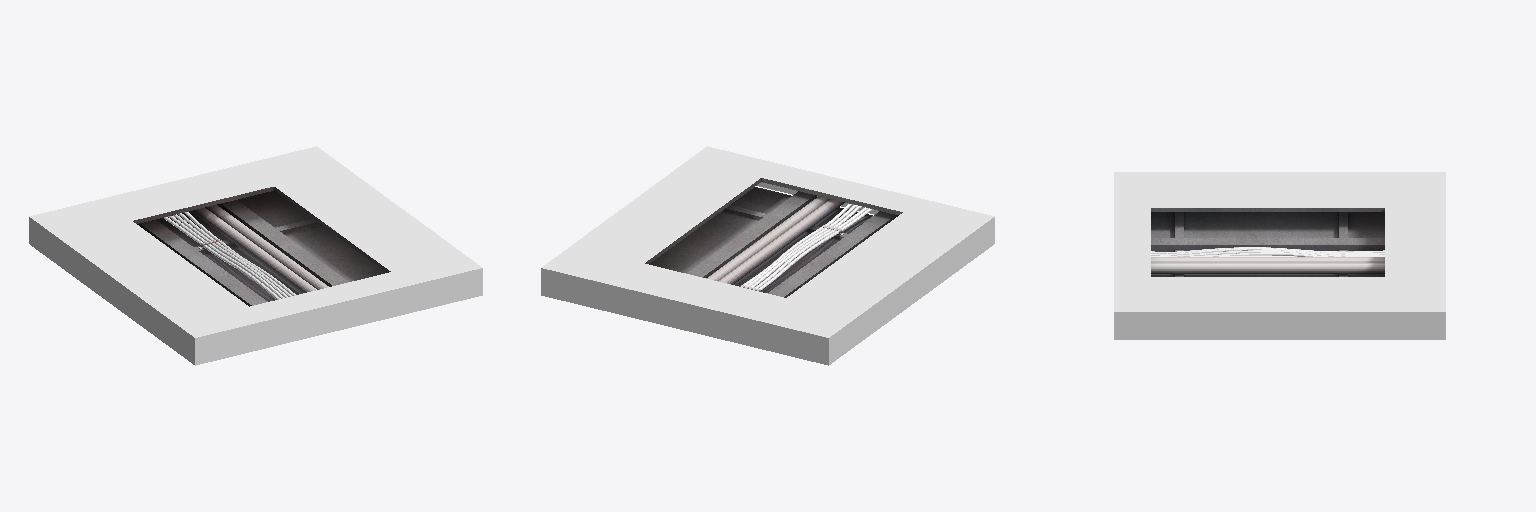
The picture shows the model from 3 angles: view 1: azimuth 30°, elevation 25°; view 2: azimuth 150°, elevation 25°; view 3: azimuth 270°, elevation 25°; orthographic projection.
Parts seen in each view (by area): view 1: WALL_out, WALL_B, pipe, cable, WALL_A; view 2: WALL_out, WALL_B, pipe, cable, WALL_A; view 3: WALL_out, WALL_B, pipe, cable, WALL_A.
Boxes of the visible parts, x1,y1,x2,y2 form: WALL_out: [29, 146, 482, 365]; WALL_B: [137, 191, 385, 306]; pipe: [191, 205, 328, 292]; cable: [164, 212, 295, 299]; WALL_A: [133, 187, 390, 272]; WALL_out: [541, 146, 994, 365]; WALL_B: [649, 187, 898, 297]; pipe: [706, 196, 844, 284]; cable: [743, 204, 872, 290]; WALL_A: [645, 178, 902, 263]; WALL_out: [1114, 172, 1445, 339]; WALL_B: [1151, 212, 1384, 276]; pipe: [1151, 257, 1384, 273]; cable: [1151, 247, 1384, 256]; WALL_A: [1151, 208, 1384, 211].
Bounding box in the file's own units: 142 × 13 × 142.
6 materials, 4 textured.